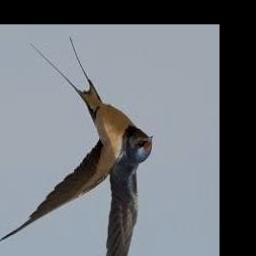Swallow: (0, 38, 153, 256)
